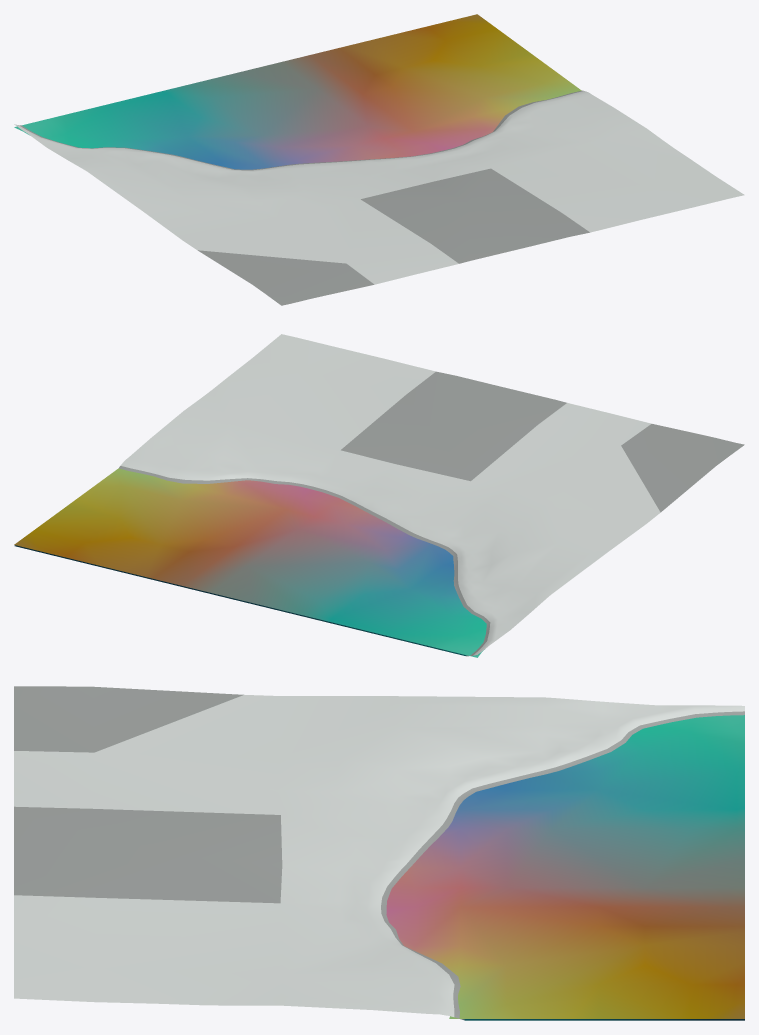
3 views of the same model, one above another, from view 1: azimuth 30°, elevation 25°; view 2: azimuth 150°, elevation 25°; view 3: azimuth 270°, elevation 25° (orthographic). The views are drawn at different scales.
Visible parts, largest first — view 1: G:\FFXIV-MapTools\exports\r2f1\bg\ex1\01_roc_r2\fld\r2f1\bgp (×5); view 2: G:\FFXIV-MapTools\exports\r2f1\bg\ex1\01_roc_r2\fld\r2f1\bgp (×6); view 3: G:\FFXIV-MapTools\exports\r2f1\bg\ex1\01_roc_r2\fld\r2f1\bgp (×6).
Part boxes in pixels (x1,y1,x2,y2): G:\FFXIV-MapTools\exports\r2f1\bg\ex1\01_roc_r2\fld\r2f1\bgp (×5): (14, 14, 744, 305); G:\FFXIV-MapTools\exports\r2f1\bg\ex1\01_roc_r2\fld\r2f1\bgp (×6): (14, 334, 744, 657); G:\FFXIV-MapTools\exports\r2f1\bg\ex1\01_roc_r2\fld\r2f1\bgp (×6): (14, 686, 744, 1020).
Bounding box in the file's own units: 128 × 4.88 × 128.
